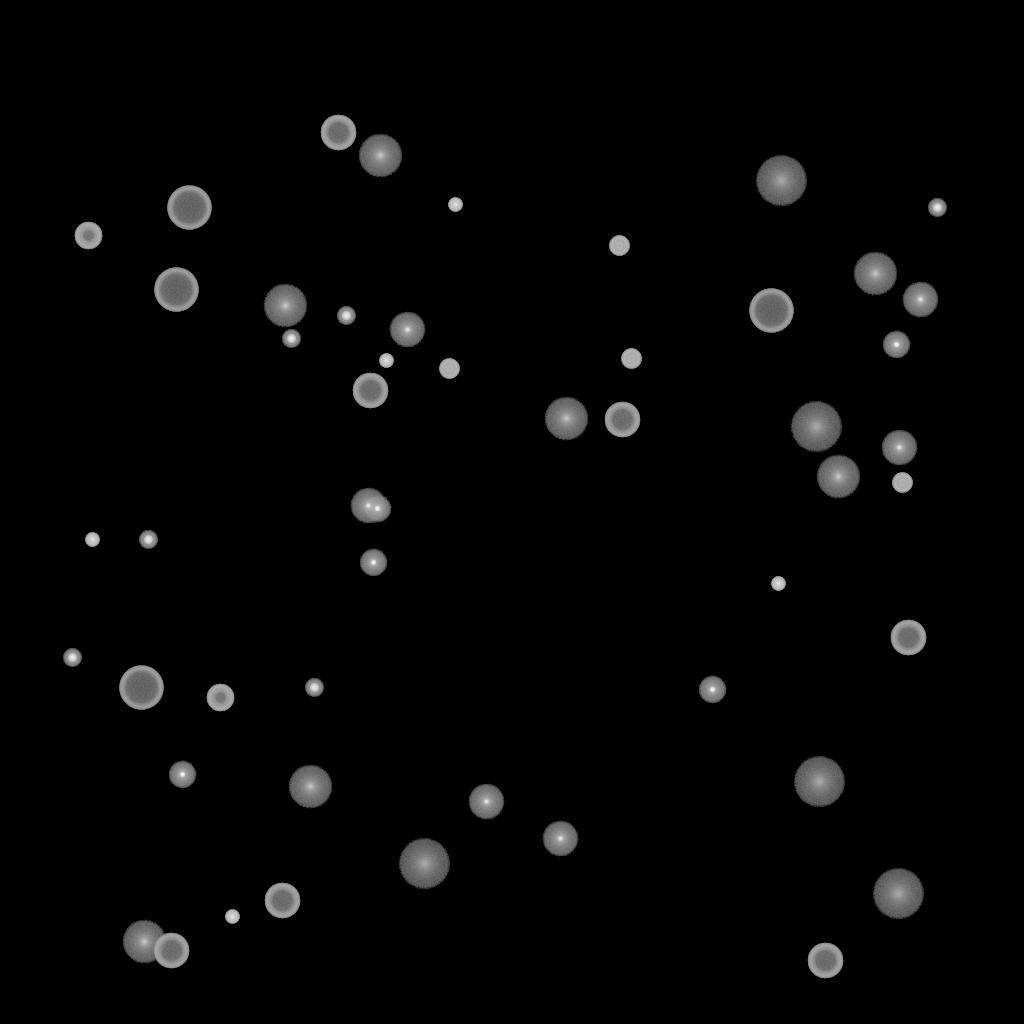depth:-10: (363, 495, 391, 523), (698, 676, 726, 704), (882, 331, 910, 359), (168, 761, 196, 789), (359, 549, 387, 577)
depth:-20: (928, 199, 946, 217), (282, 330, 300, 348), (139, 531, 157, 549), (63, 649, 81, 667), (337, 307, 355, 325), (305, 679, 323, 697)
depth:-30: (448, 198, 462, 212), (225, 910, 239, 924), (379, 354, 393, 368), (85, 533, 99, 547), (771, 577, 785, 591)
depth:-40: (609, 236, 629, 256), (621, 349, 641, 369), (892, 473, 912, 493), (439, 359, 459, 379)
depth:-50: (206, 684, 234, 712), (74, 222, 102, 250)
depth:-60: (807, 943, 843, 979), (153, 933, 189, 969), (352, 373, 388, 409), (890, 620, 926, 656), (264, 883, 300, 919), (320, 115, 356, 151), (604, 402, 640, 438)
depth:-70: (749, 289, 793, 333), (119, 666, 163, 710), (154, 268, 198, 312), (167, 186, 211, 230)
depth:0: (881, 430, 917, 466), (902, 282, 938, 318), (542, 821, 578, 857), (350, 488, 386, 524), (468, 784, 504, 820), (389, 312, 425, 348)
depth:10: (358, 134, 402, 178), (853, 252, 897, 296), (288, 765, 332, 809), (122, 920, 166, 964), (263, 284, 307, 328), (816, 455, 860, 499), (544, 397, 588, 441)
depth:20: (790, 402, 842, 452), (793, 757, 845, 807), (755, 156, 807, 206), (872, 869, 924, 919), (398, 839, 450, 889)
